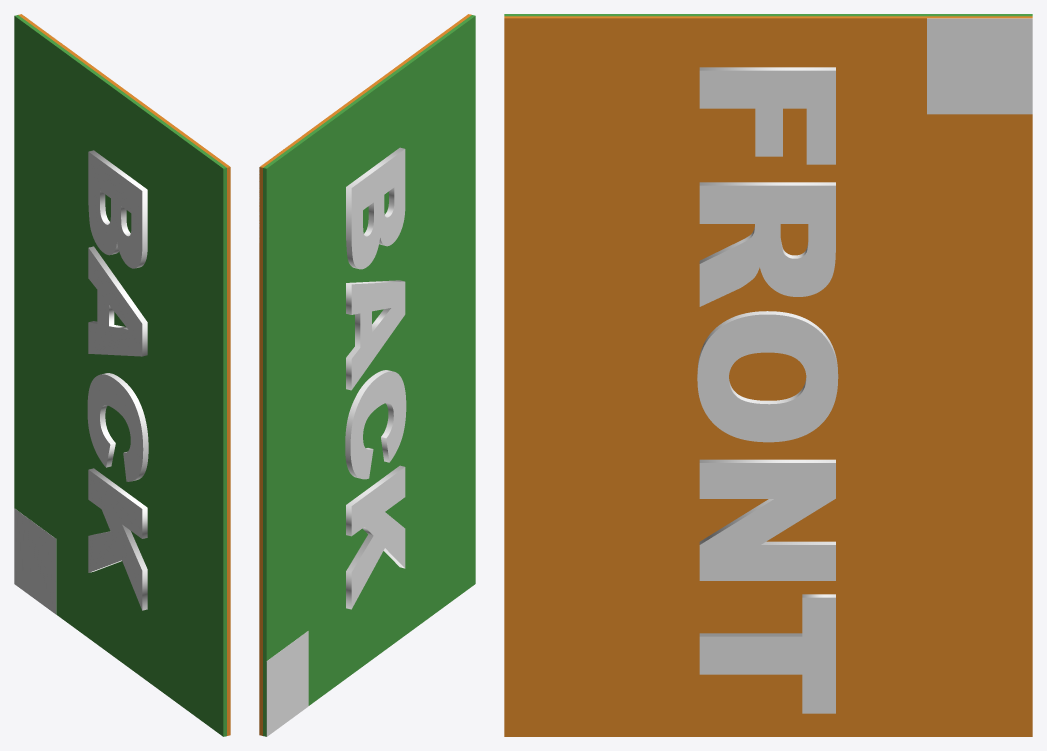
Rendered from chessboard_frontAndBack_color.fbx.
The picture shows the model from 3 angles, left to right: view 1: azimuth 30°, elevation 25°; view 2: azimuth 150°, elevation 25°; view 3: azimuth 270°, elevation 25°; orthographic projection. The views are drawn at different scales.
Visible parts, largest first — view 1: chessboard-back面, BACK-白地, chessboard-back升, chessboard-front面; view 2: chessboard-back面, BACK-白地, chessboard-back升, chessboard-front面; view 3: chessboard-front面, FRONT-白地, chessboard-front升, chessboard-back面.
Part boxes in pixels (bbox=[...]): chessboard-back面: bbox=[14, 15, 226, 736]; BACK-白地: bbox=[87, 150, 148, 610]; chessboard-back升: bbox=[14, 508, 56, 614]; chessboard-front面: bbox=[18, 14, 230, 735]; chessboard-back面: bbox=[263, 15, 475, 736]; BACK-白地: bbox=[345, 147, 406, 609]; chessboard-back升: bbox=[266, 631, 308, 736]; chessboard-front面: bbox=[259, 14, 471, 735]; chessboard-front面: bbox=[504, 16, 1032, 736]; FRONT-白地: bbox=[697, 67, 838, 713]; chessboard-front升: bbox=[927, 18, 1032, 114]; chessboard-back面: bbox=[504, 14, 1032, 16].
Size of the model in its own units: 10 by 200 by 300.
